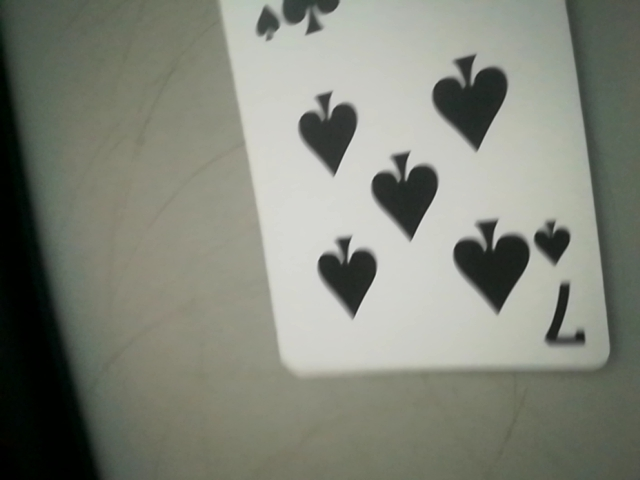ht 7: (535, 209, 592, 354)
